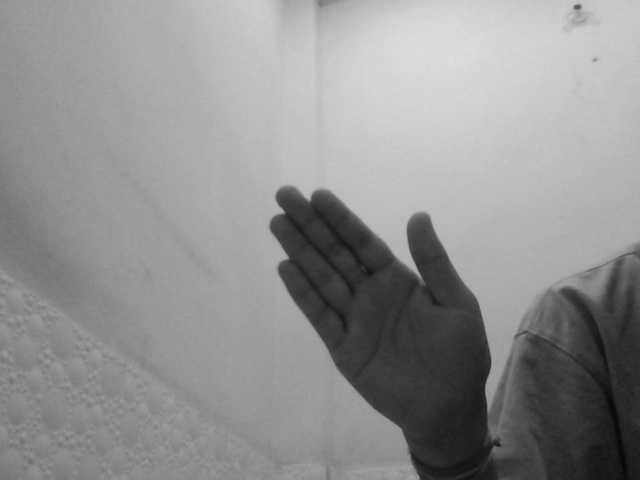Hello: (263, 177, 517, 439)
